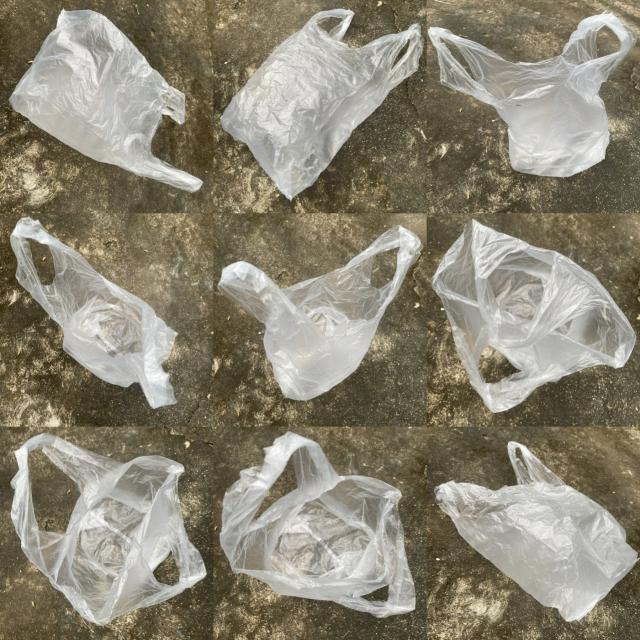Single-layer Plastic: (431, 220, 635, 412), (221, 9, 424, 199), (12, 434, 206, 625), (435, 441, 638, 621), (220, 432, 415, 618), (218, 226, 422, 400), (9, 10, 202, 192), (0, 212, 176, 408), (428, 12, 638, 176)
